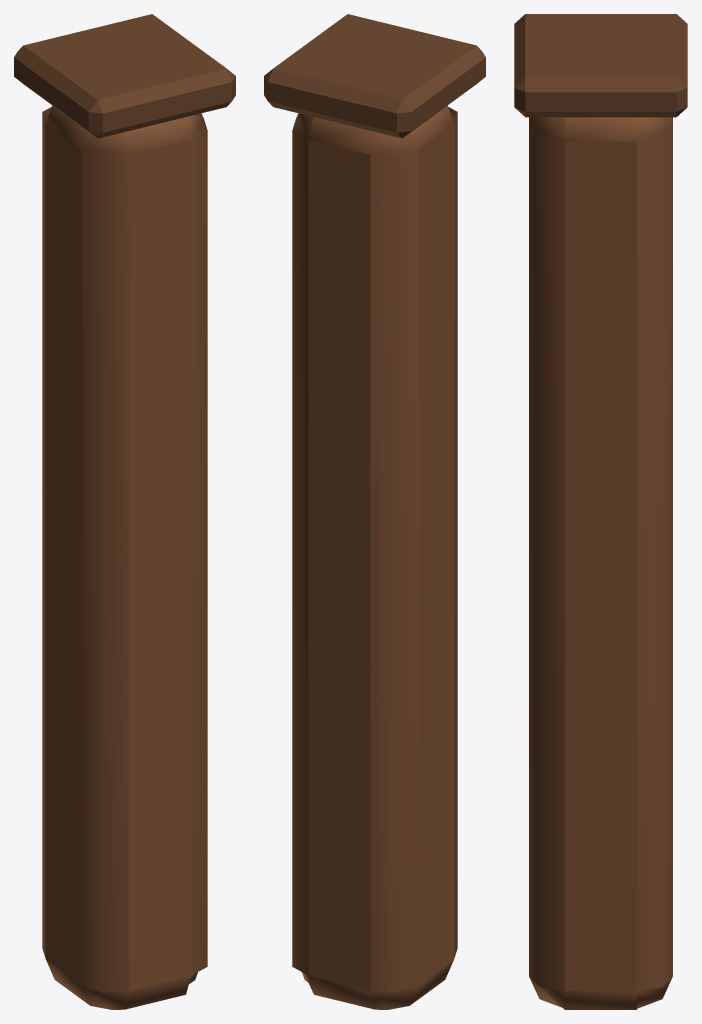
Rendered from gate_post.glb.
3 views of the same model, side by side, from view 1: azimuth 30°, elevation 25°; view 2: azimuth 150°, elevation 25°; view 3: azimuth 270°, elevation 25° (orthographic).
Visible parts, largest first — view 1: body; view 2: body; view 3: body.
Boxes of the visible parts, box(x1,y1,x2,y2) form: body: box(14, 14, 235, 1009); body: box(264, 14, 485, 1009); body: box(514, 14, 687, 1009).
Size of the model in its own units: 0.24 by 1.45 by 0.24.
